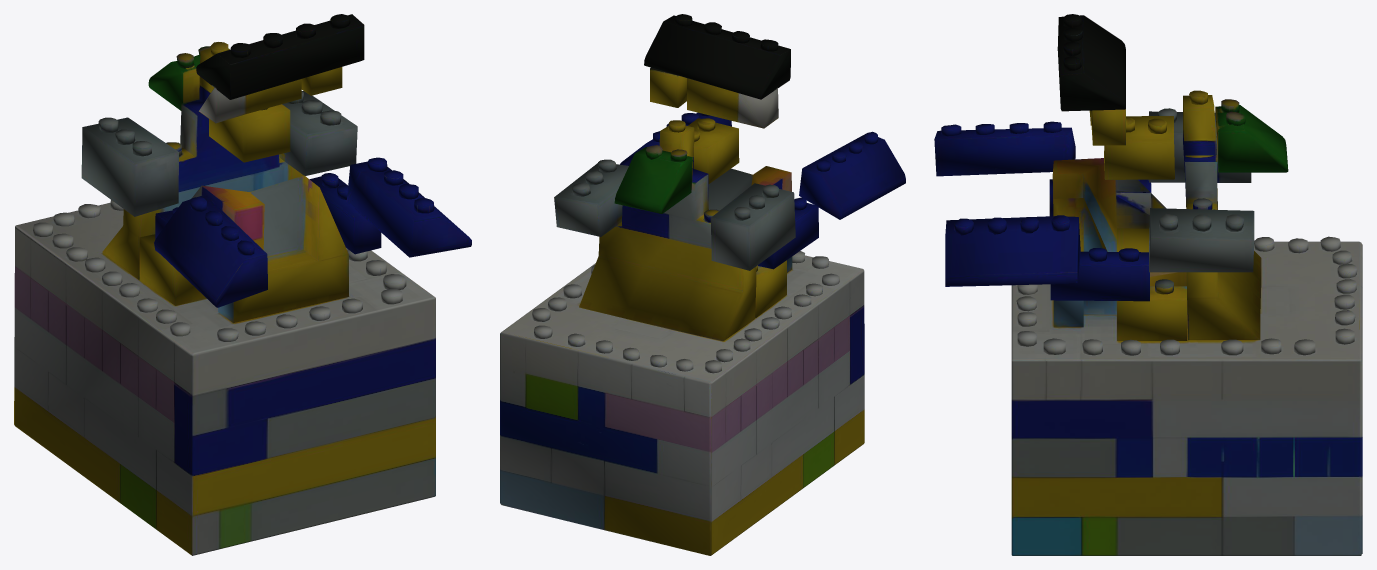
File: object_54_asset_e9b8a68d.glb
3 renders of one model, left to right at view 1: azimuth 30°, elevation 25°; view 2: azimuth 150°, elevation 25°; view 3: azimuth 270°, elevation 25°, orthographic. The views are drawn at different scales.
Parts seen in each view (by area): view 1: tripo_node_905b71b5-3c08-4660-8d9c-d40dd152116e; view 2: tripo_node_905b71b5-3c08-4660-8d9c-d40dd152116e; view 3: tripo_node_905b71b5-3c08-4660-8d9c-d40dd152116e.
Boxes of the visible parts, box(x1,y1,x2,y2) form: tripo_node_905b71b5-3c08-4660-8d9c-d40dd152116e: box(14, 14, 471, 555); tripo_node_905b71b5-3c08-4660-8d9c-d40dd152116e: box(500, 14, 905, 555); tripo_node_905b71b5-3c08-4660-8d9c-d40dd152116e: box(934, 14, 1362, 555).
Bounding box in the file's own units: 0.5801 × 0.998 × 0.834.
1 material, 1 textured.
